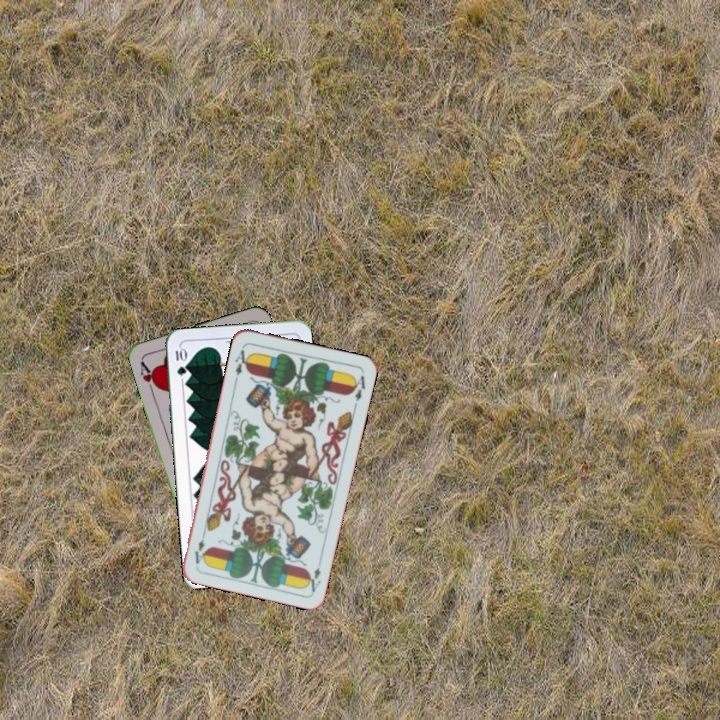EA: (231, 343, 252, 383), (303, 563, 324, 594)
G10: (171, 344, 189, 378)
HA: (136, 355, 161, 395)
